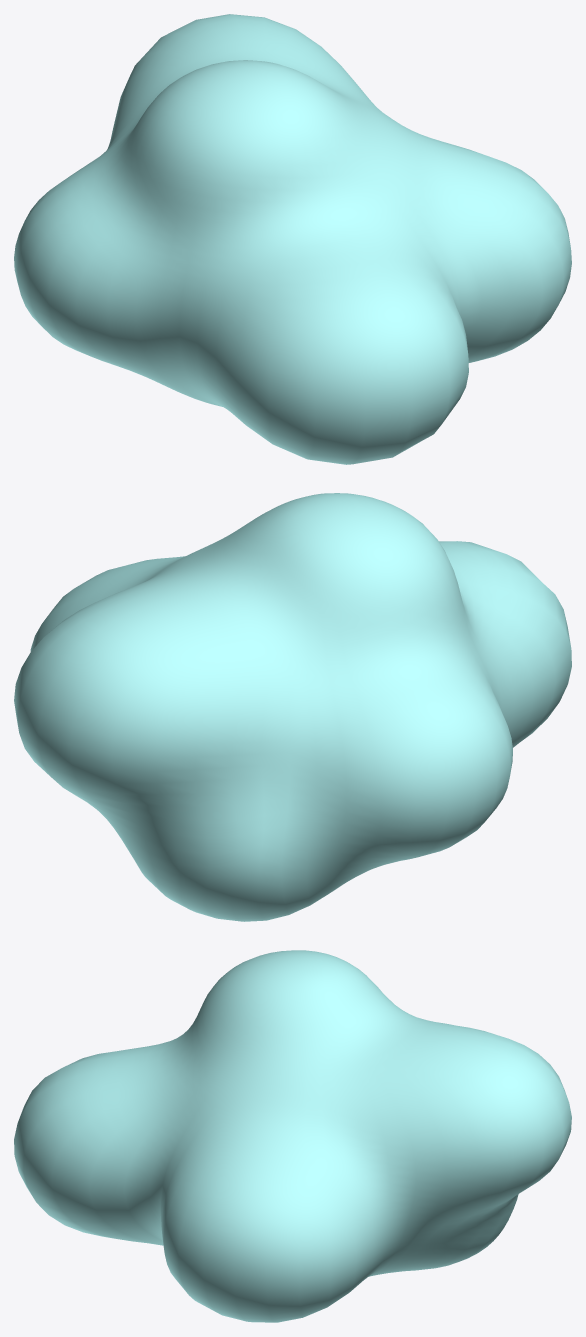
File: Wolken.fbx
3 renders of one model, top to bottom at view 1: azimuth 30°, elevation 25°; view 2: azimuth 150°, elevation 25°; view 3: azimuth 270°, elevation 25°, orthographic. The views are drawn at different scales.
Parts seen in each view (by area): view 1: pSphere4; view 2: pSphere4; view 3: pSphere4.
Boxes of the visible parts, x1,y1,x2,y2 form: pSphere4: [14, 14, 571, 464]; pSphere4: [14, 493, 571, 921]; pSphere4: [14, 950, 571, 1322].
Size of the model in its own units: 186 by 124 by 216.
